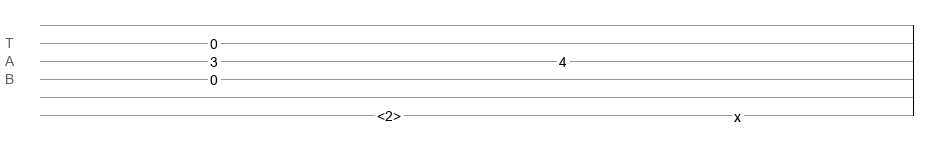0: (210, 72, 218, 82), (210, 36, 218, 46)
3: (210, 54, 218, 64)
4: (559, 54, 567, 64)
harmonic: (377, 108, 401, 118)
x: (734, 109, 741, 117)
